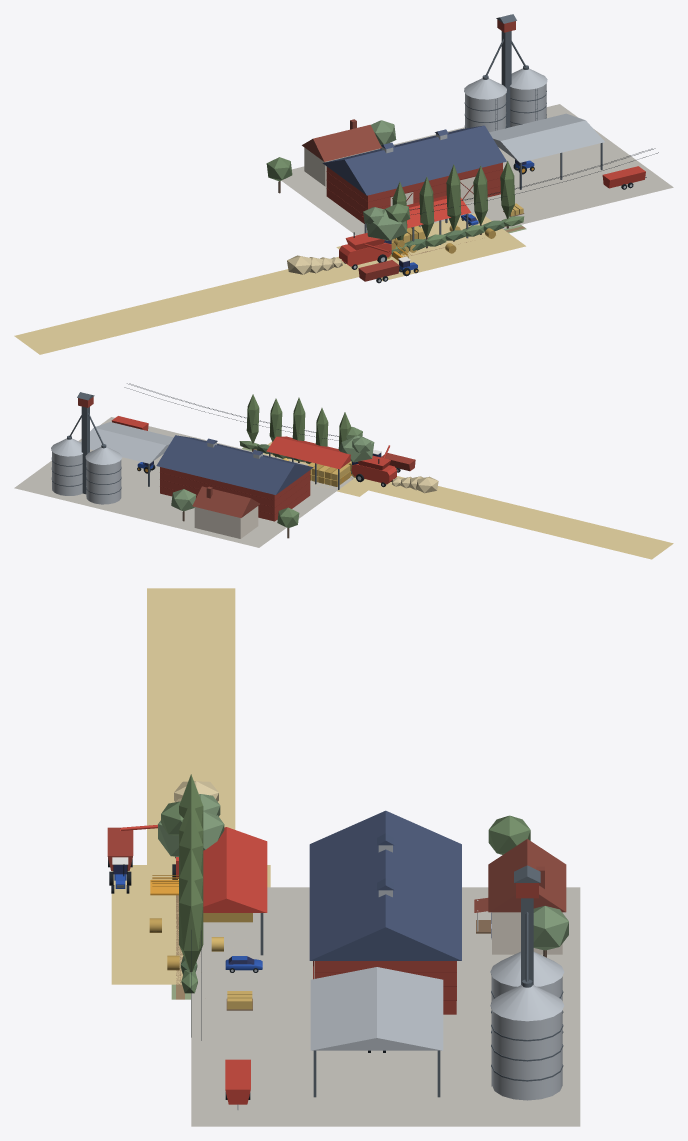
The model's file is fields.glb.
3 views of the same model, one above another, from view 1: azimuth 30°, elevation 25°; view 2: azimuth 150°, elevation 25°; view 3: azimuth 270°, elevation 25° (orthographic). The views are drawn at different scales.
Parts seen in each view (by area): view 1: Farmstead, Combine, BaleStack, Poplars, Oak, Hedge, HayShed, PowerSpan; view 2: Farmstead, Combine, HayShed, Poplars, Oak, PowerSpan, BaleStack, Hedge; view 3: Farmstead, Combine, BaleStack, HayShed, Poplars, Oak.
Part boxes in pixels (x1,y1,x2,y2): Farmstead: [266, 14, 673, 235]; Combine: [14, 232, 418, 354]; BaleStack: [336, 213, 525, 281]; Poplars: [392, 161, 514, 254]; Oak: [363, 203, 410, 240]; Hedge: [391, 216, 524, 254]; HayShed: [362, 195, 471, 244]; PowerSpan: [409, 148, 658, 214]; Farmstead: [14, 392, 354, 547]; Combine: [342, 445, 673, 559]; HayShed: [266, 436, 350, 489]; Poplars: [246, 394, 351, 462]; Oak: [339, 427, 374, 462]; PowerSpan: [124, 383, 339, 440]; BaleStack: [263, 441, 396, 496]; Hedge: [239, 441, 351, 474]; Farmstead: [191, 810, 580, 1126]; Combine: [107, 588, 235, 895]; BaleStack: [111, 865, 270, 984]; HayShed: [203, 827, 267, 955]; Poplars: [179, 774, 203, 971]; Oak: [158, 794, 224, 856].
Bounding box in the file's own units: 144 × 25.02 × 53.45.
